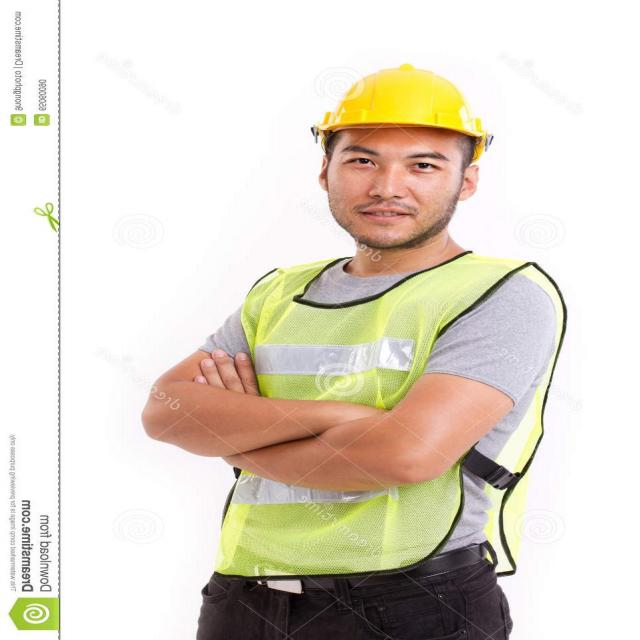Reflective-Jacket: (212, 249, 572, 577)
Safety-Helmet: (312, 61, 491, 141)
